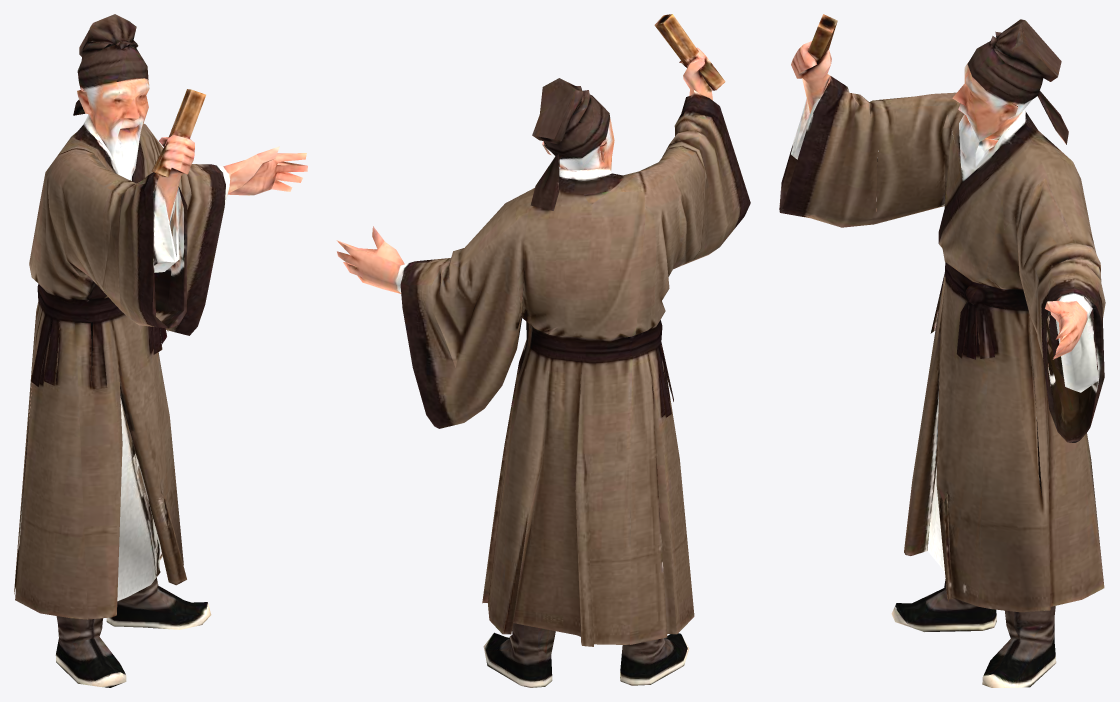
File: p_story_lo.glb
3 renders of one model, left to right at view 1: azimuth 30°, elevation 25°; view 2: azimuth 150°, elevation 25°; view 3: azimuth 270°, elevation 25°, orthographic. The views are drawn at different scales.
Parts seen in each view (by area): view 1: p_story; view 2: p_story; view 3: p_story.
Boxes of the visible parts, left/top/right/bottom form: p_story: left=14, top=14, right=307, bottom=687; p_story: left=336, top=14, right=750, bottom=687; p_story: left=779, top=14, right=1105, bottom=687.
Bounding box in the file's own units: 0.9253 × 1.7 × 0.7982.
1 material, 1 textured.
